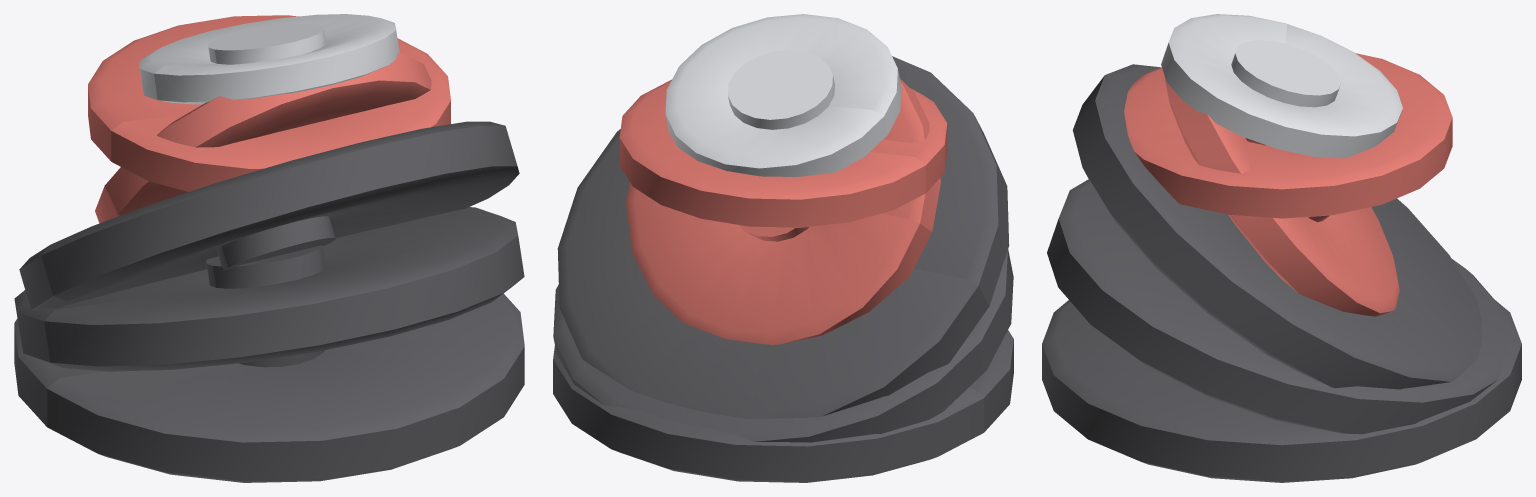
The model's file is bumper_plate_stack.glb.
The picture shows the model from 3 angles, left to right: view 1: azimuth 30°, elevation 25°; view 2: azimuth 150°, elevation 25°; view 3: azimuth 270°, elevation 25°; orthographic projection. The views are drawn at different scales.
Parts seen in each view (by area): view 1: bumper-plate-stack; view 2: bumper-plate-stack; view 3: bumper-plate-stack.
Boxes of the visible parts, x1,y1,x2,y2 form: bumper-plate-stack: [14, 14, 524, 482]; bumper-plate-stack: [553, 14, 1013, 482]; bumper-plate-stack: [1042, 14, 1521, 482].
Bounding box in the file's own units: 0.45 × 0.3625 × 0.45.
